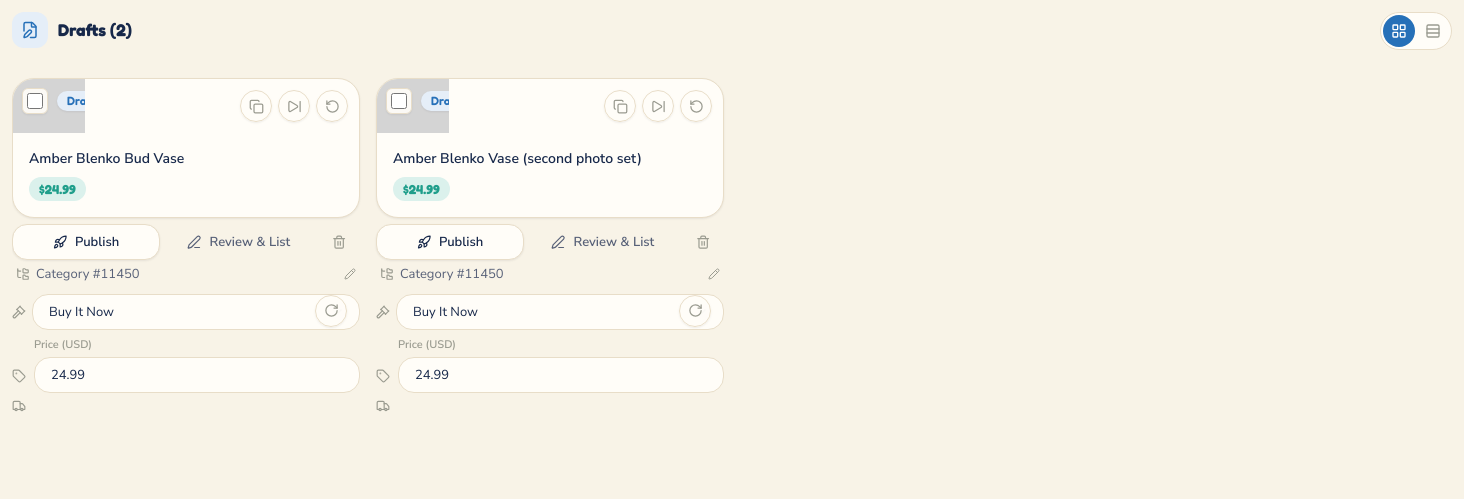
merging duplicate drafts from the grid › puts Merge into one on the bulk bar, armed by a single tick
Click the checkbox named "Select \"Amber Blenko Bud Vase\"".
click(35, 101)  # box 27,93 -> 43,109
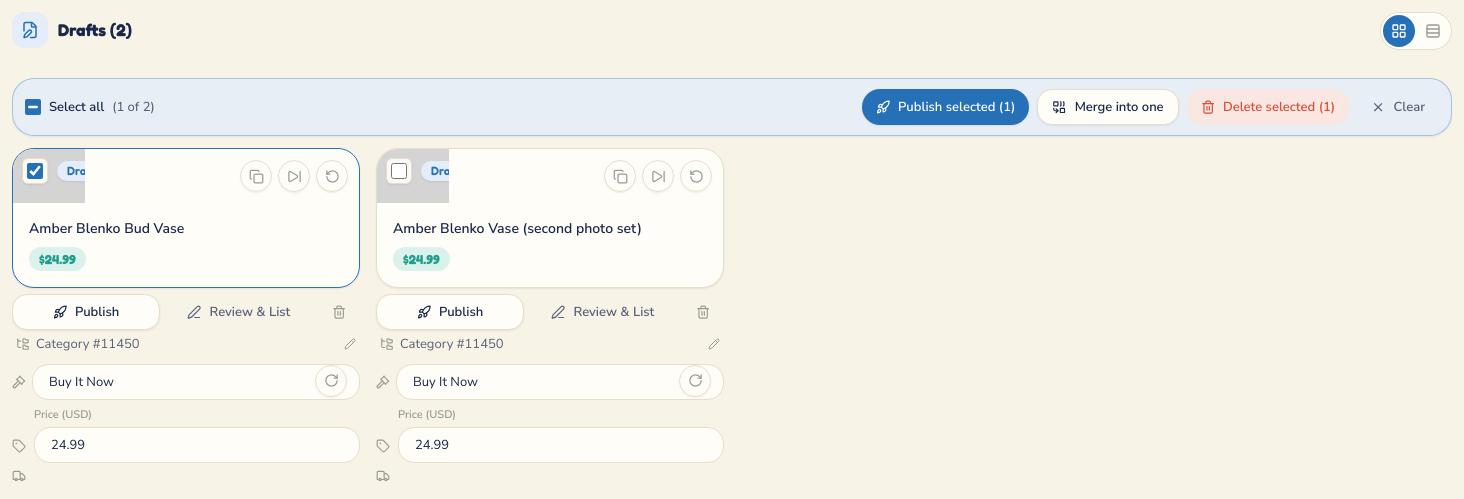
Expected: the button "Merge into one" is enabled, 1037,89 -> 1179,125
